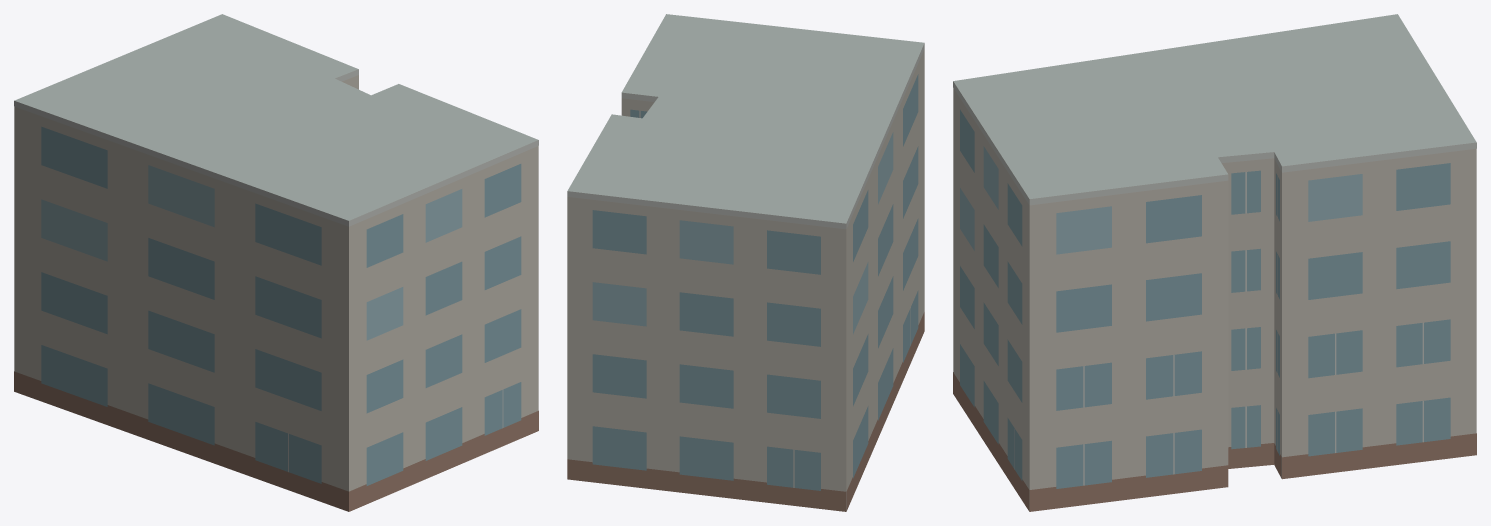
The model's file is survey-upis-33036114.glb.
3 views of the same model, side by side, from view 1: azimuth 30°, elevation 25°; view 2: azimuth 150°, elevation 25°; view 3: azimuth 270°, elevation 25° (orthographic). The views are drawn at different scales.
Parts seen in each view (by area): view 1: survey-upis-33036114.tmp; view 2: survey-upis-33036114.tmp; view 3: survey-upis-33036114.tmp.
Boxes of the visible parts, box(x1,y1,x2,y2) form: survey-upis-33036114.tmp: box(14, 14, 538, 511); survey-upis-33036114.tmp: box(567, 14, 924, 511); survey-upis-33036114.tmp: box(953, 14, 1476, 511).
Bounding box in the file's own units: 15.51 × 12.2 × 18.53.
